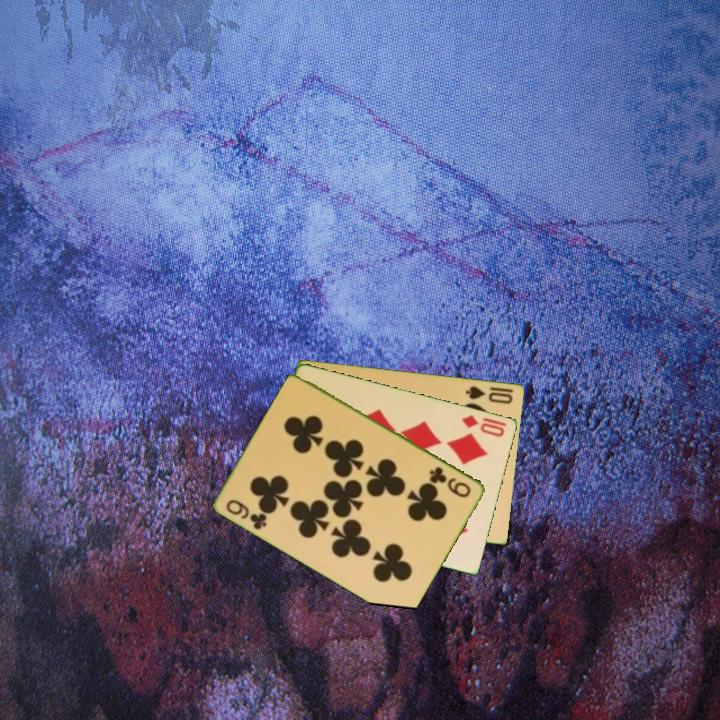10d: (459, 411, 508, 439)
10s: (463, 382, 516, 406)
9c: (426, 463, 474, 501), (223, 496, 270, 533)
